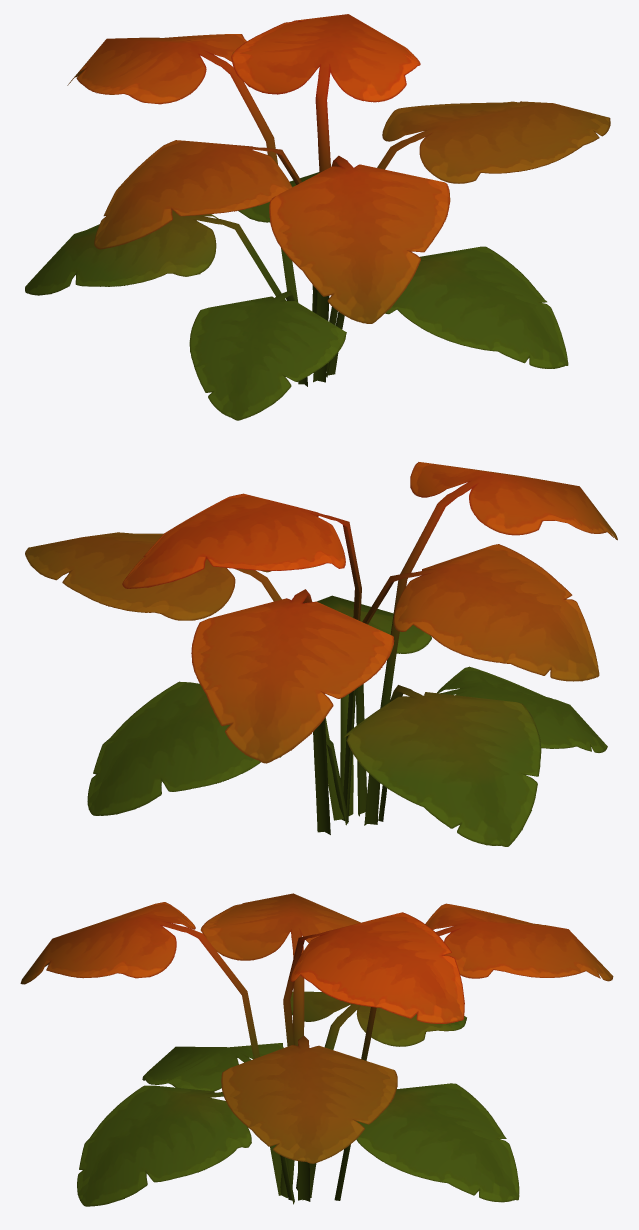
File: SM_grass_bush.glb
3 views of the same model, one above another, from view 1: azimuth 30°, elevation 25°; view 2: azimuth 150°, elevation 25°; view 3: azimuth 270°, elevation 25° (orthographic). The views are drawn at different scales.
Visible parts, largest first — view 1: SM_grass_bush; view 2: SM_grass_bush; view 3: SM_grass_bush.
Part boxes in pixels (x1,y1,x2,y2): SM_grass_bush: (25,14,610,420); SM_grass_bush: (25,462,617,846); SM_grass_bush: (20,893,613,1206).
Size of the model in its own units: 1.42 by 0.7489 by 1.45.
1 material, 1 textured.
